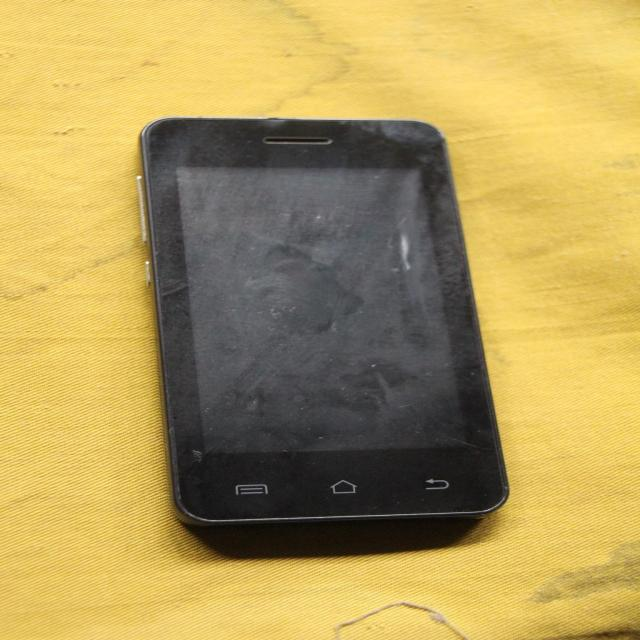Phone: (140, 116, 511, 541)
